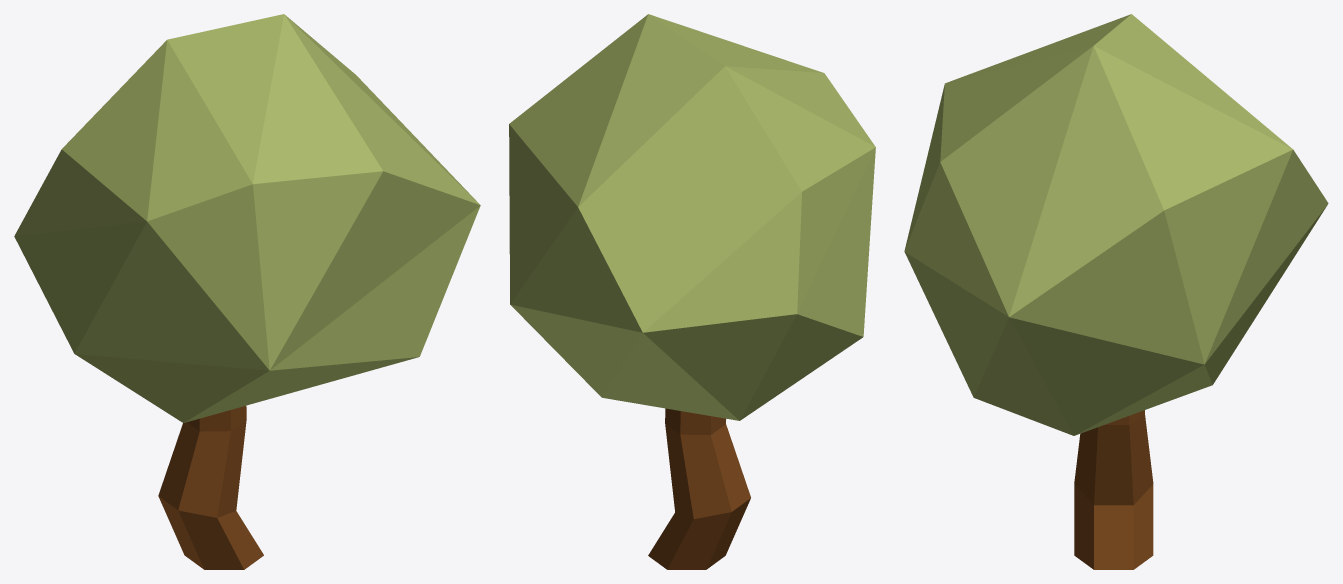
Rendered from bush_q1.glb.
3 renders of one model, left to right at view 1: azimuth 30°, elevation 25°; view 2: azimuth 150°, elevation 25°; view 3: azimuth 270°, elevation 25°, orthographic. The views are drawn at different scales.
Parts seen in each view (by area): view 1: Bush1_Icosphere; view 2: Bush1_Icosphere; view 3: Bush1_Icosphere.
Part boxes in pixels (x1,y1,x2,y2): Bush1_Icosphere: (14,14,480,569); Bush1_Icosphere: (509,14,875,569); Bush1_Icosphere: (904,14,1328,569).
Size of the model in its own units: 1.18 by 1.64 by 1.18.
